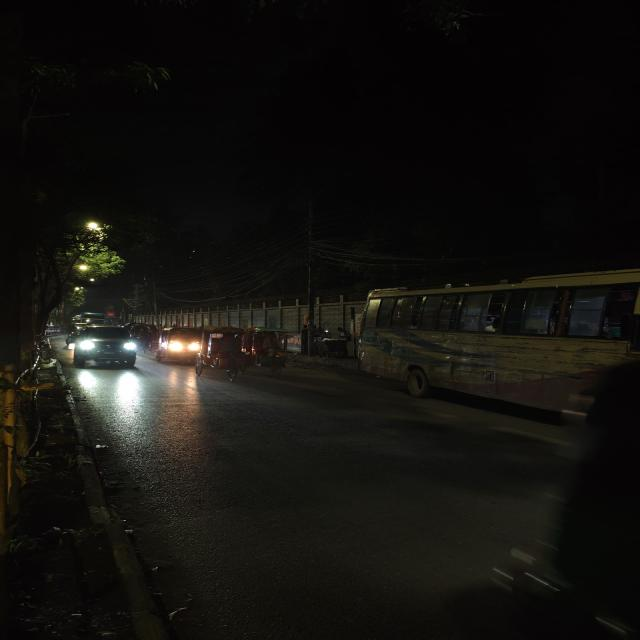bus: (355, 261, 640, 419)
car: (66, 323, 142, 371)
cng: (153, 325, 205, 365)
rickshaw: (202, 323, 252, 382), (246, 324, 292, 378)
